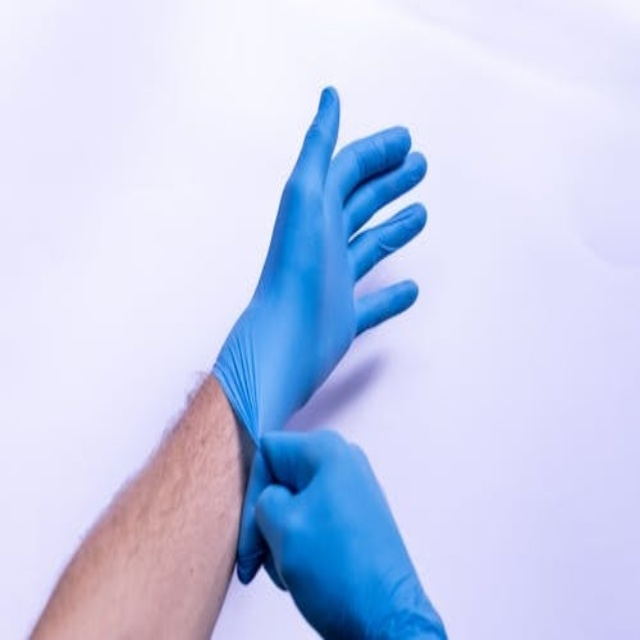Guantes: (217, 78, 427, 458), (242, 423, 456, 640)
